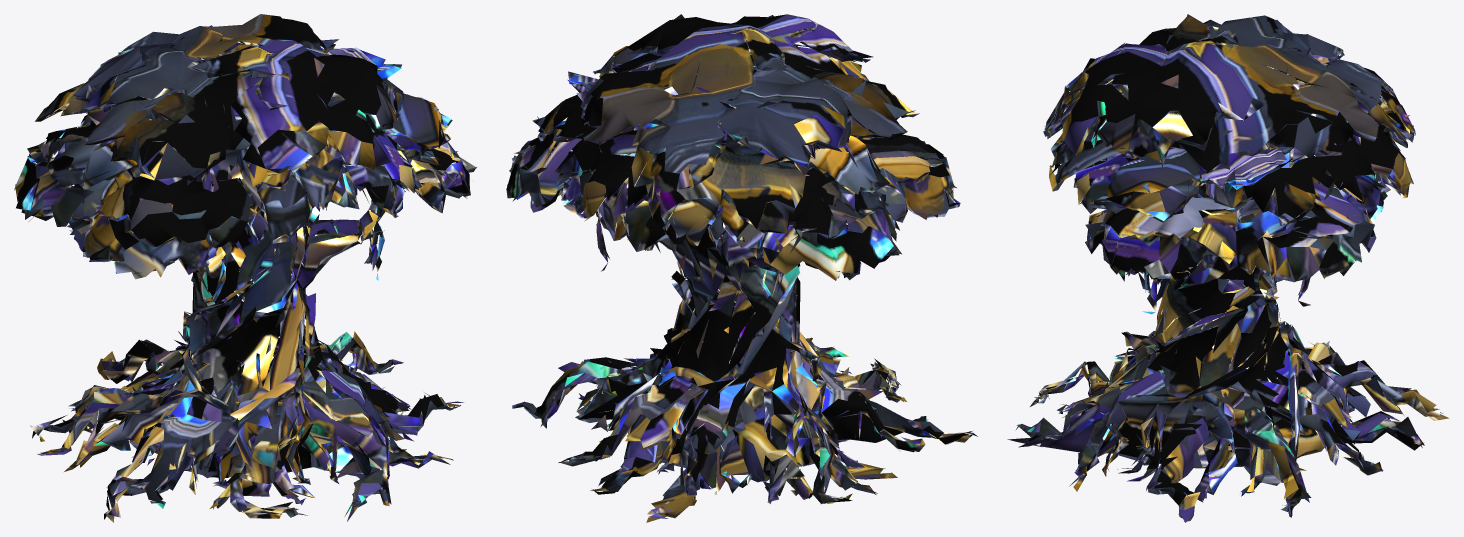
The model's file is tower_eldercanopy_3d_LOD1.fbx.
The picture shows the model from 3 angles, left to right: view 1: azimuth 30°, elevation 25°; view 2: azimuth 150°, elevation 25°; view 3: azimuth 270°, elevation 25°; orthographic projection. The views are drawn at different scales.
Visible parts, largest first — view 1: Mesh1.0; view 2: Mesh1.0; view 3: Mesh1.0.
Boxes of the visible parts, x1,y1,x2,y2 form: Mesh1.0: (14, 14, 476, 522); Mesh1.0: (506, 14, 977, 522); Mesh1.0: (1007, 14, 1448, 522).
Bounding box in the file's own units: 129 × 126 × 129.
